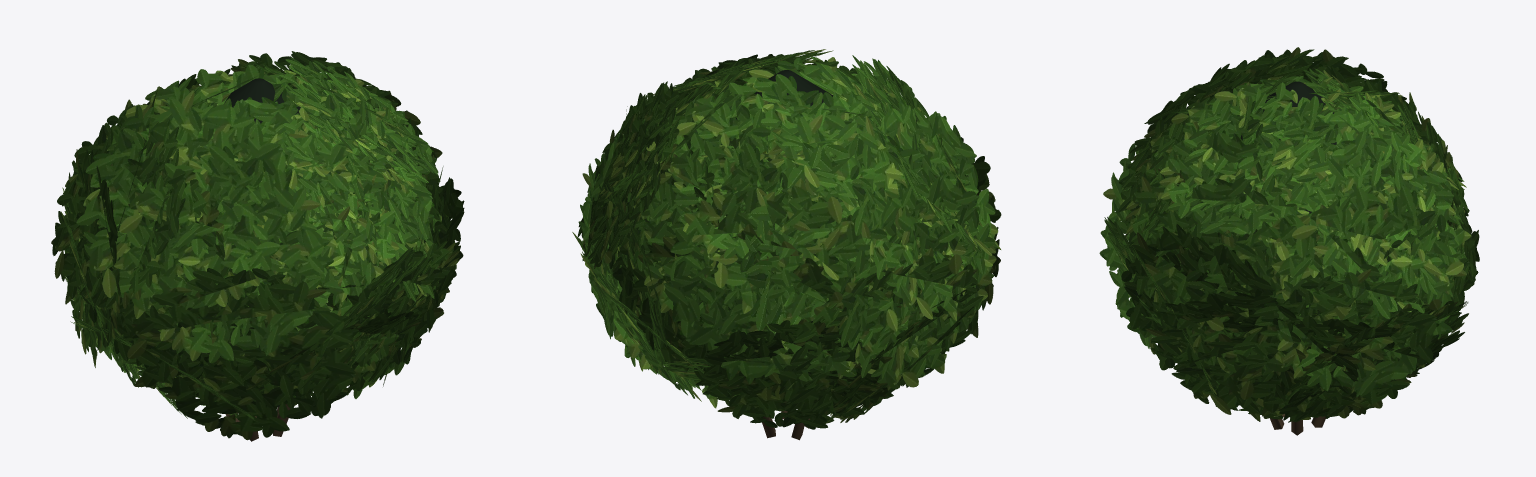
The model's file is bush.glb.
3 renders of one model, left to right at view 1: azimuth 30°, elevation 25°; view 2: azimuth 150°, elevation 25°; view 3: azimuth 270°, elevation 25°, orthographic. The views are drawn at different scales.
Parts seen in each view (by area): view 1: bush_cards, bush_core; view 2: bush_cards, bush_core; view 3: bush_cards, bush_core.
Part boxes in pixels (box(x1,y1,x2,y2)): bush_cards: box(51, 51, 464, 440); bush_core: box(223, 78, 315, 441); bush_cards: box(572, 49, 1001, 429); bush_core: box(736, 70, 833, 440); bush_cards: box(1099, 47, 1479, 422); bush_core: box(1240, 81, 1336, 435).
Bounding box in the file's own units: 2.3 × 2.14 × 2.25.
Materials: 2 (1 with a texture image).
